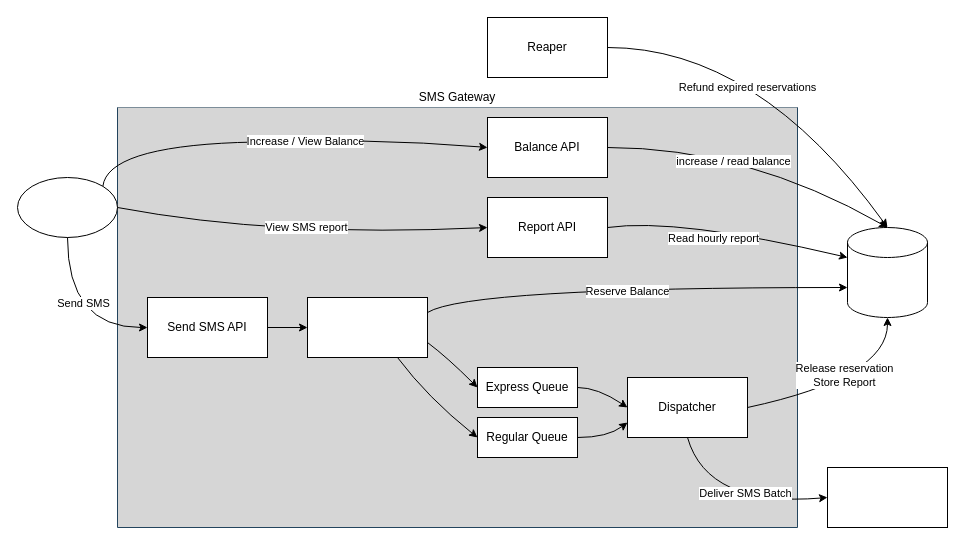
Some shapes in this 965 by 545 pixel diagram are drawn without their labels. Each missing label, with the centre of its shape:
Admission: the point at 367,327
PostgreSQL: the point at 887,272
SMS Operator: the point at 887,497
User: the point at 67,207
